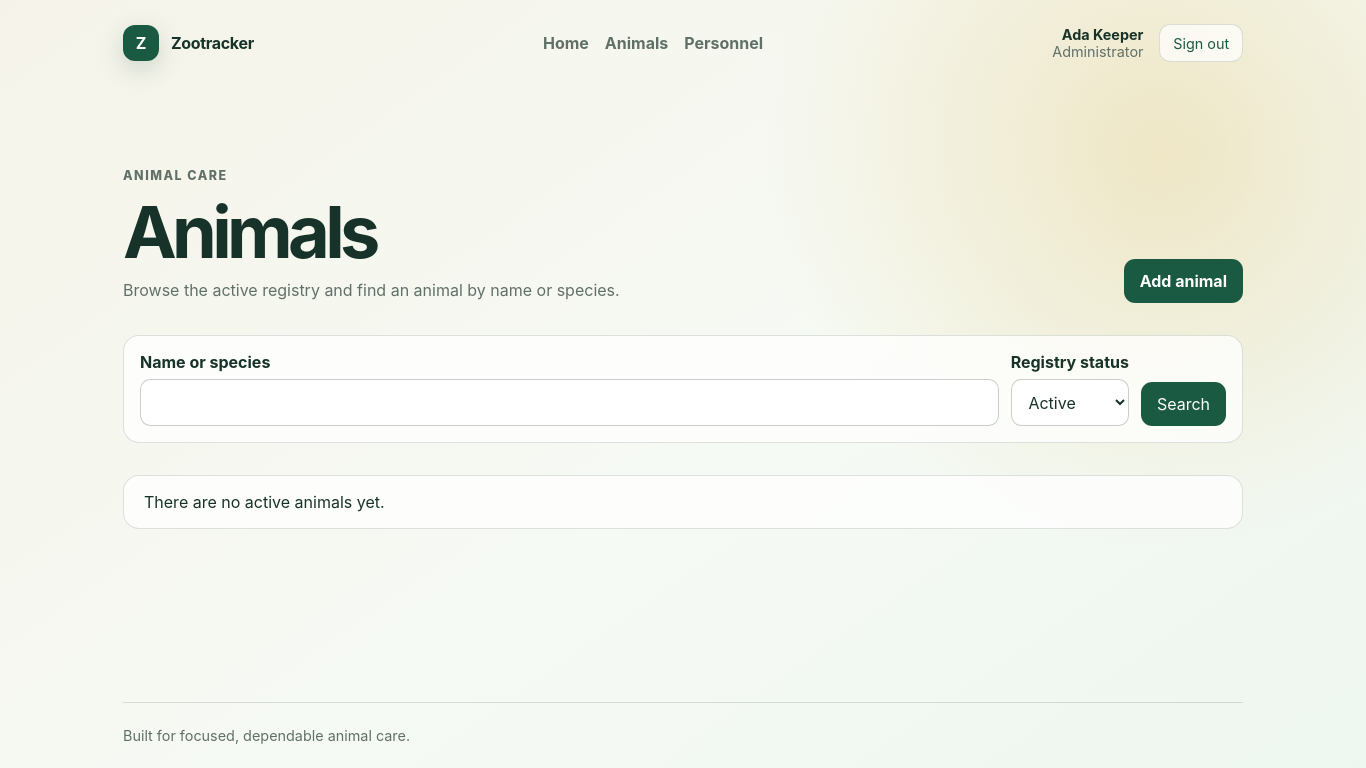
Test case: App authentication › shows useful empty and archived-directory states
Expected: the text "There are no active animals yet." is shown, x1=123 y1=475 x2=1243 y2=529
Select "Archived" in the dropdown labelled "Registry status" at [1070, 403], box x1=1011 y1=380 x2=1129 y2=426
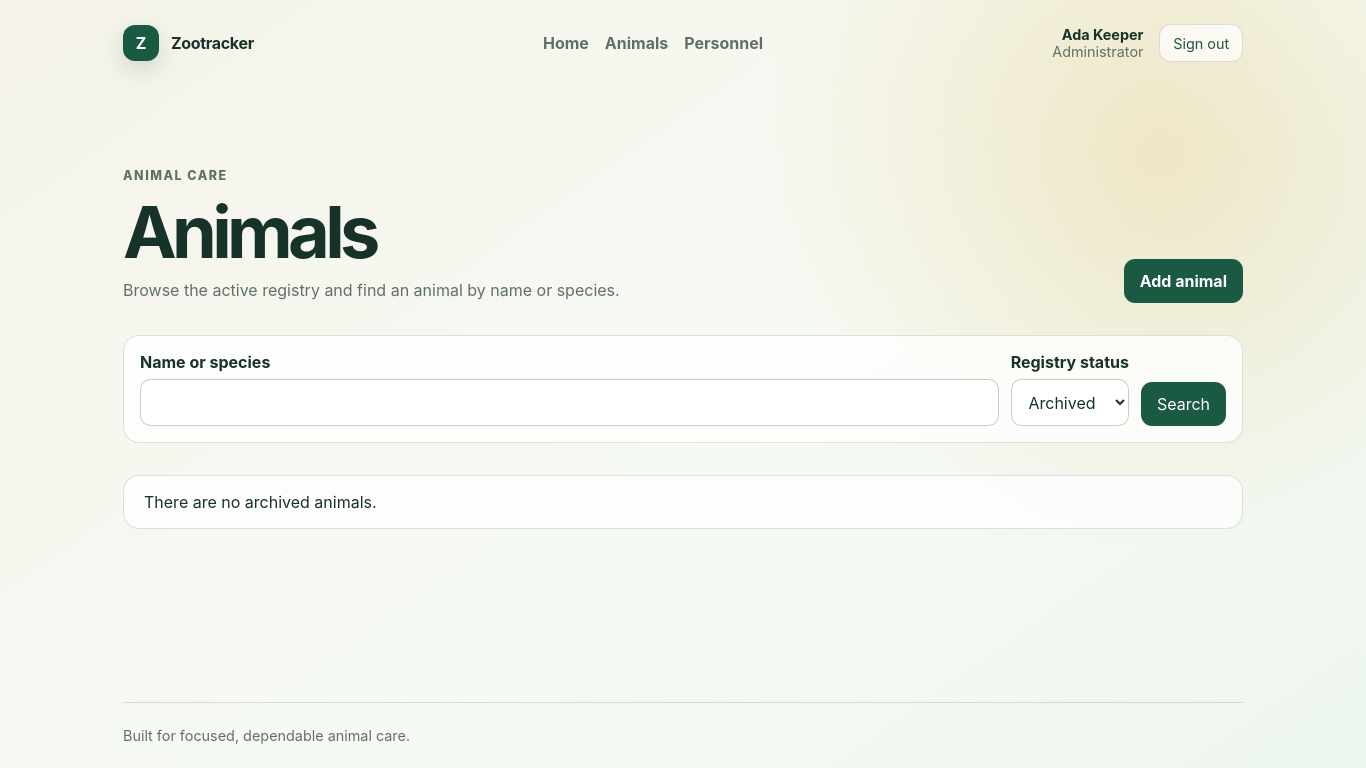
Result: the text "There are no archived animals." is shown at x1=123 y1=475 x2=1243 y2=529
